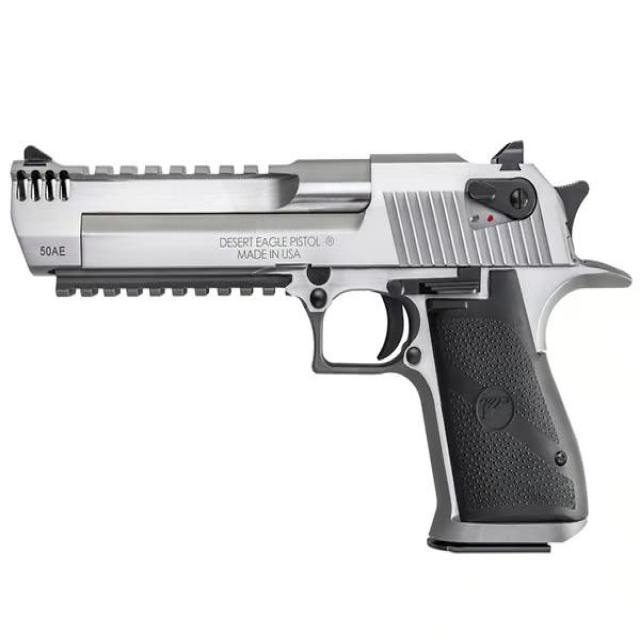gun: (10, 142, 634, 555)
